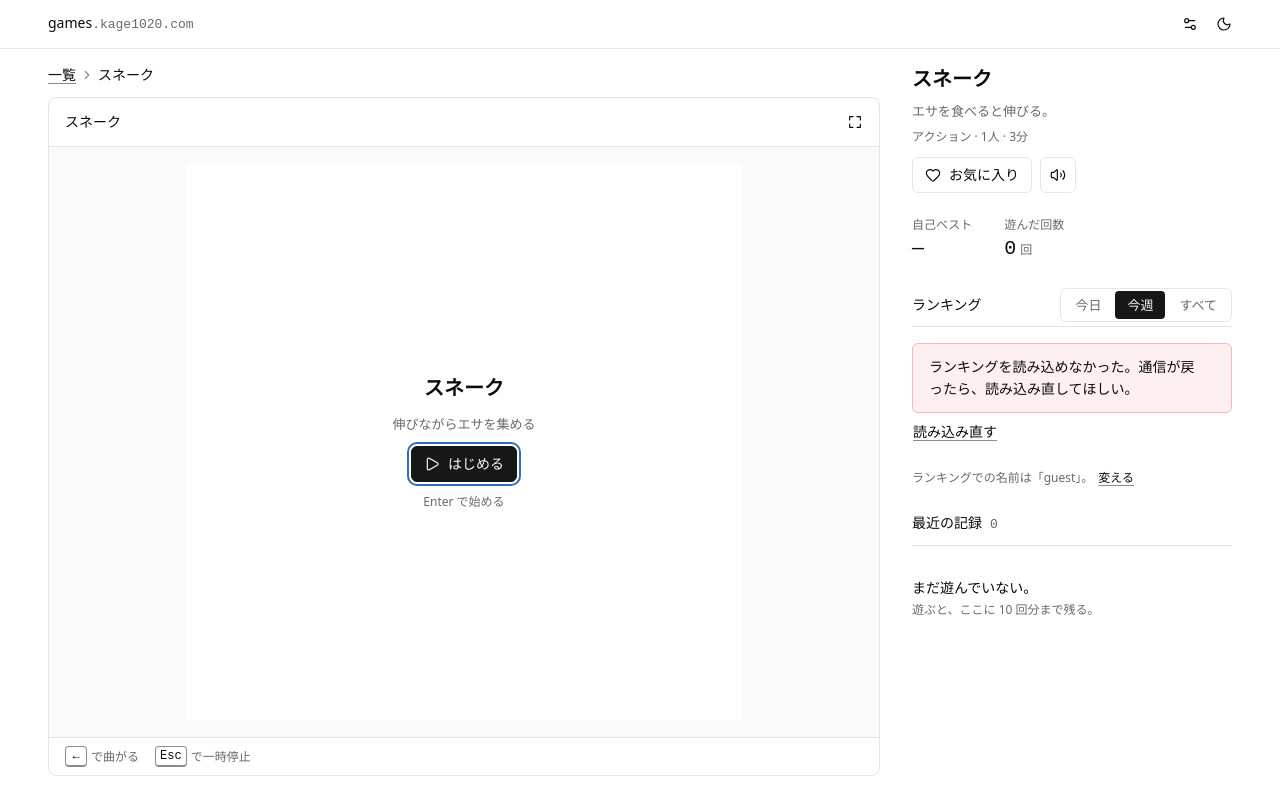
Test: play › AC-U8 tells when the ranking cannot be loaded and offers to retry
This screenshot has width=1280, height=800.
Expected: the message shows "ランキングを読み込めなかった。", [929, 357, 1195, 398]
Click the button "読み込み直す" at (955, 432), box [912, 421, 998, 443]
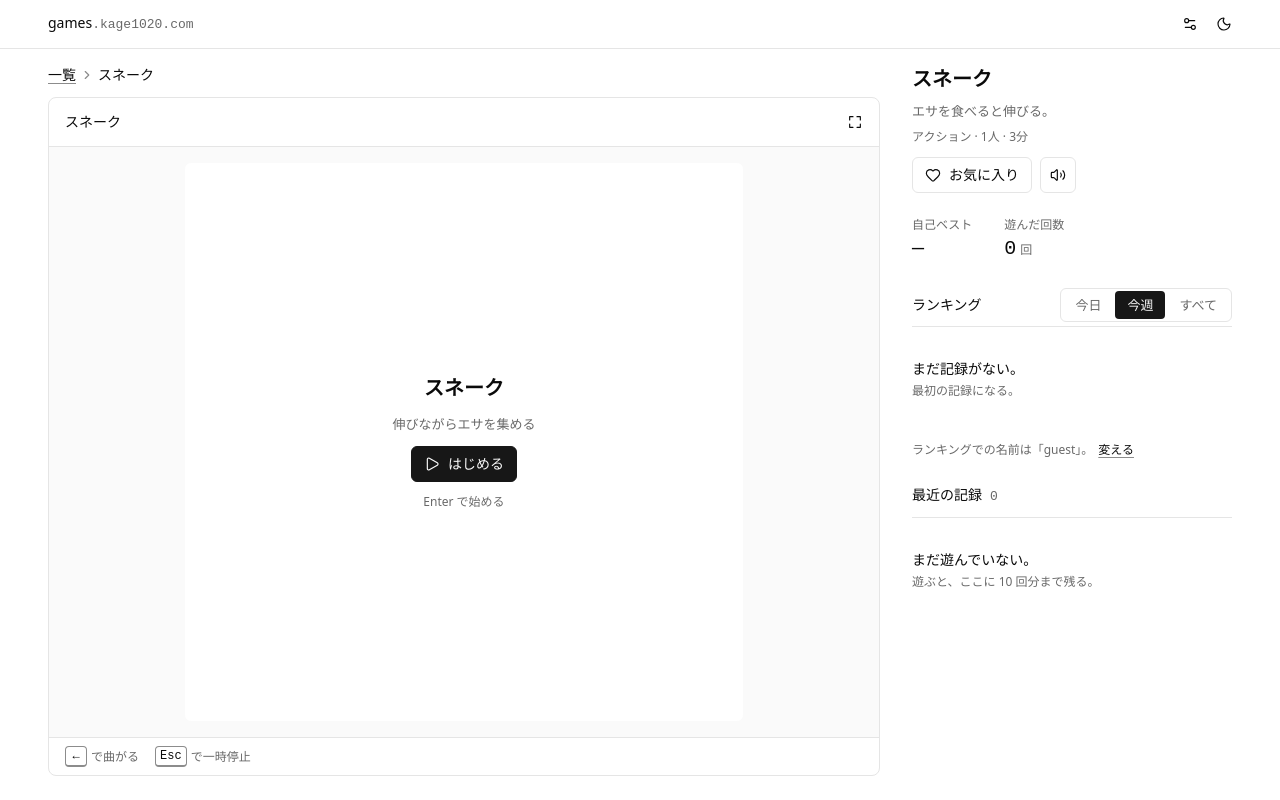
Expected: the text "まだ記録がない。" is shown, [912, 359, 1024, 378]
